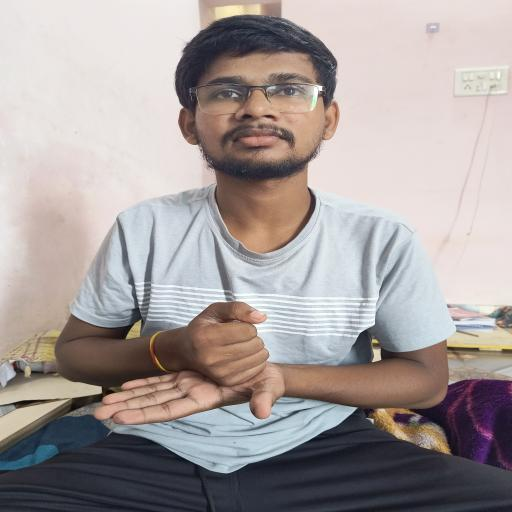Next: (88, 284, 322, 443)
